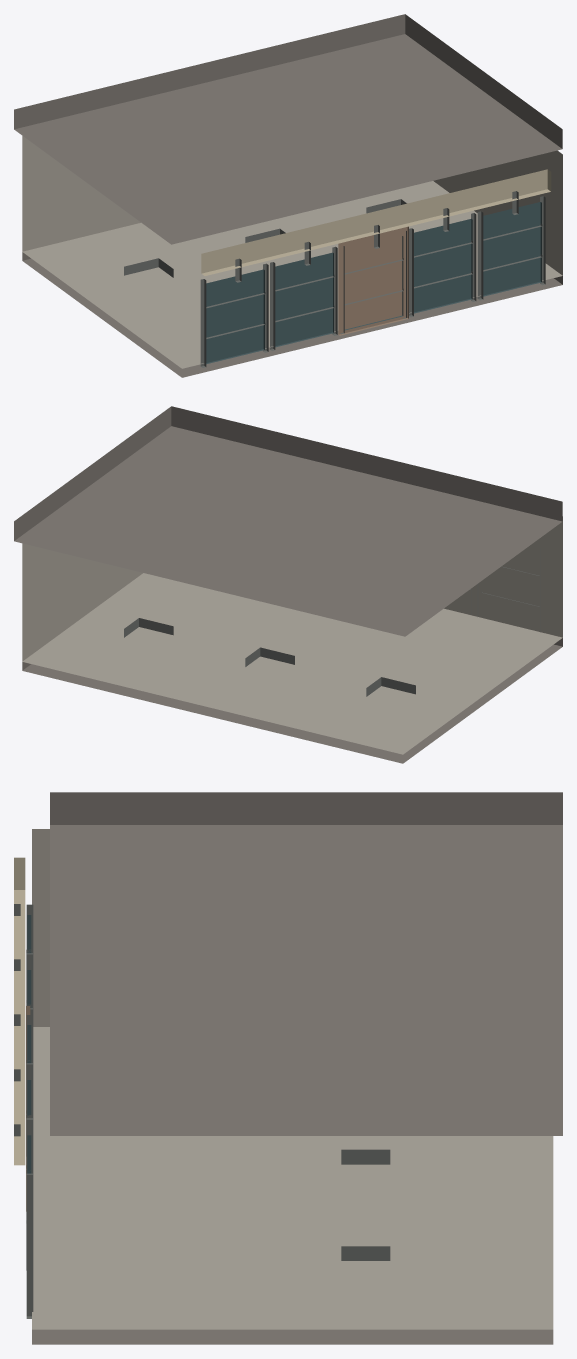
Rendered from diner_detail.glb.
3 renders of one model, top to bottom at view 1: azimuth 30°, elevation 25°; view 2: azimuth 150°, elevation 25°; view 3: azimuth 270°, elevation 25°, orthographic. The views are drawn at different scales.
Size of the model in its own units: 22.6 by 8.3 by 16.85.
